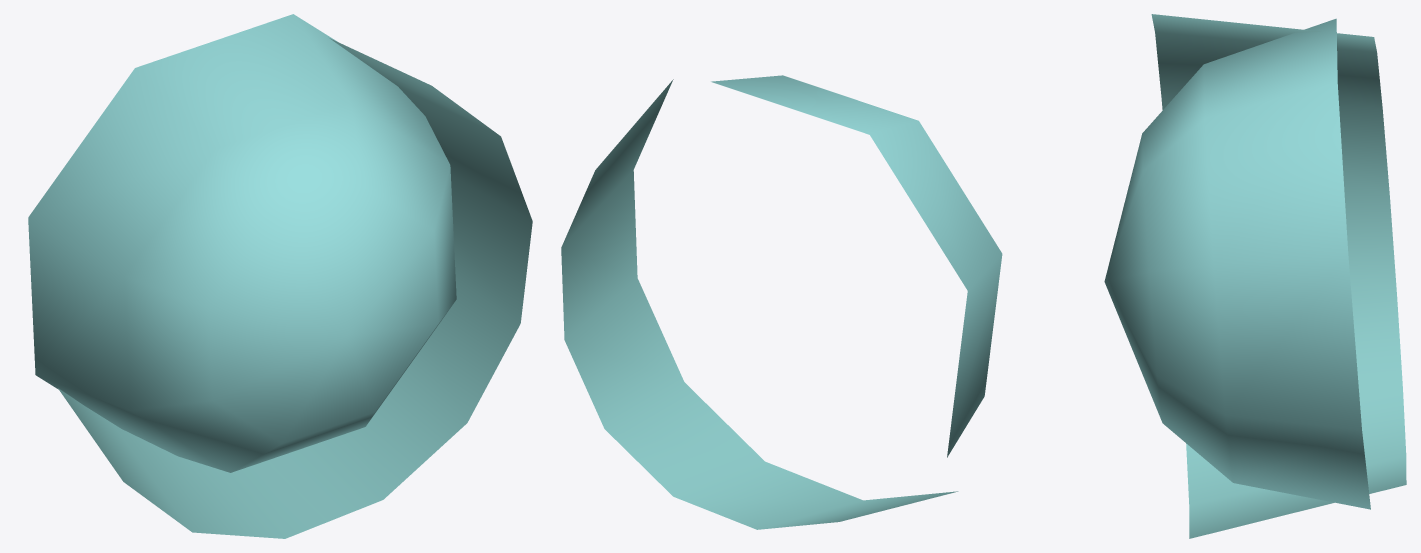
File: DJStageLightTeal.glb
3 views of the same model, side by side, from view 1: azimuth 30°, elevation 25°; view 2: azimuth 150°, elevation 25°; view 3: azimuth 270°, elevation 25° (orthographic). The views are drawn at different scales.
Parts seen in each view (by area): view 1: DJStageLightTeal; view 2: DJStageLightTeal; view 3: DJStageLightTeal.
Boxes of the visible parts, x1,y1,x2,y2 form: DJStageLightTeal: [28, 14, 532, 538]; DJStageLightTeal: [561, 75, 1002, 529]; DJStageLightTeal: [1104, 14, 1406, 538].
Size of the model in its own units: 0.1917 by 0.1926 by 0.1109.
